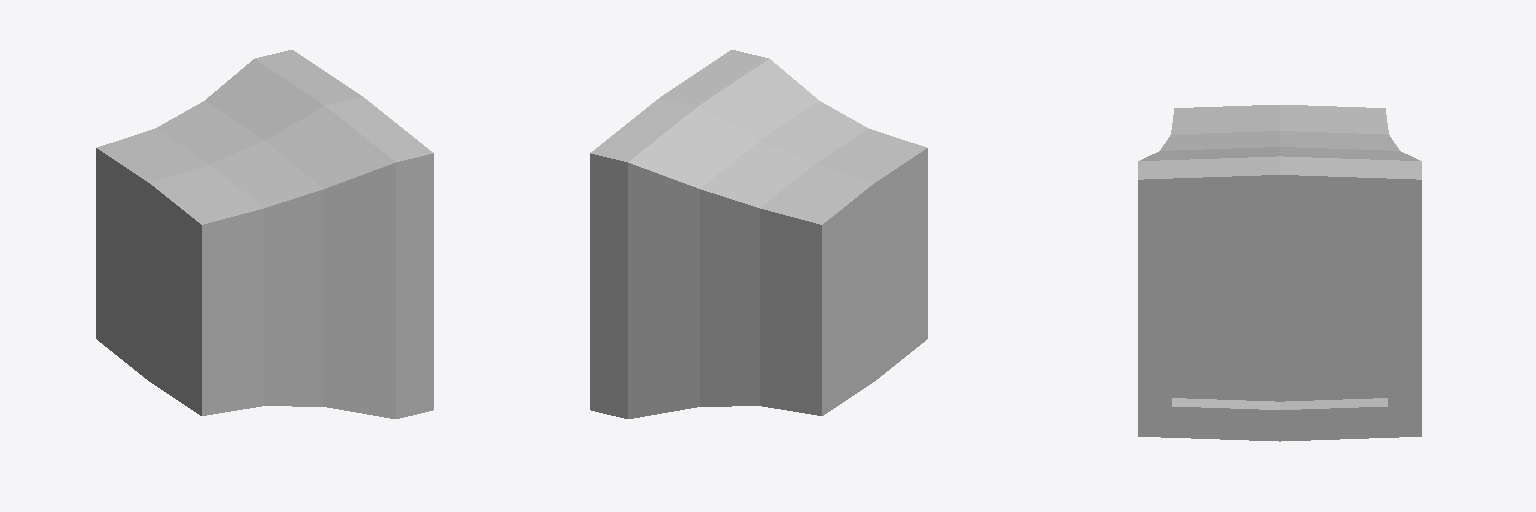
The model's file is B0by_Head.obj.
The picture shows the model from 3 angles: view 1: azimuth 30°, elevation 25°; view 2: azimuth 150°, elevation 25°; view 3: azimuth 270°, elevation 25°; orthographic projection.
Visible parts, largest first — view 1: SK_B0byHead; view 2: SK_B0byHead; view 3: SK_B0byHead.
Boxes of the visible parts, <box> form: SK_B0byHead: <box>96,50,433,418</box>; SK_B0byHead: <box>590,50,927,418</box>; SK_B0byHead: <box>1138,105,1421,441</box>.
Bounding box in the file's own units: 0.2778 × 0.3309 × 0.3189.